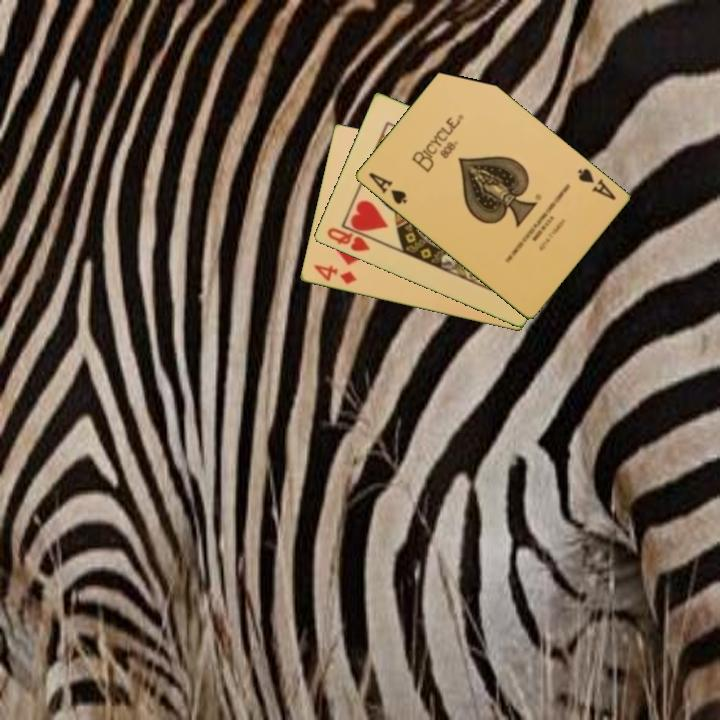4d: (310, 261, 360, 287)
As: (364, 169, 410, 207), (573, 165, 618, 203)
Qh: (323, 223, 379, 255)
